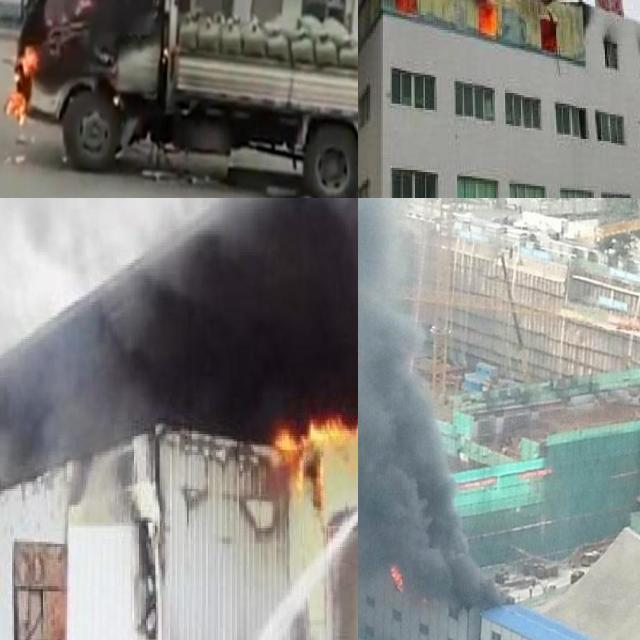fire: (272, 406, 358, 453), (4, 45, 37, 124), (476, 0, 497, 32), (388, 562, 404, 589), (395, 0, 415, 11)
smoke: (0, 198, 358, 450), (358, 198, 510, 608)
